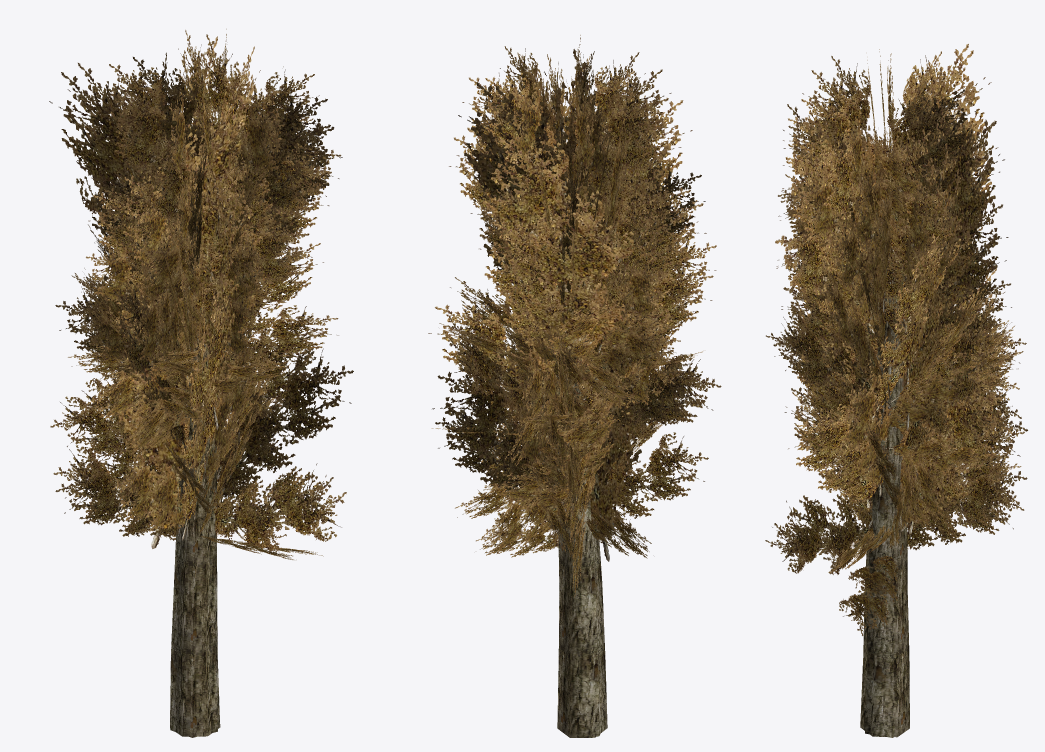
File: far.glb
3 renders of one model, left to right at view 1: azimuth 30°, elevation 25°; view 2: azimuth 150°, elevation 25°; view 3: azimuth 270°, elevation 25°, orthographic.
Parts seen in each view (by area): view 1: lod1, lod2; view 2: lod1, lod2; view 3: lod1, lod2.
Boxes of the visible parts, bbox=[...] form: lod1: bbox=[50, 34, 346, 736]; lod2: bbox=[49, 29, 353, 737]; lod1: bbox=[431, 35, 721, 737]; lod2: bbox=[428, 49, 705, 736]; lod1: bbox=[765, 49, 1027, 737]; lod2: bbox=[782, 44, 1008, 737].
Bounding box in the file's own units: 7.19 × 19.89 × 7.15.
2 materials, 2 textured.
